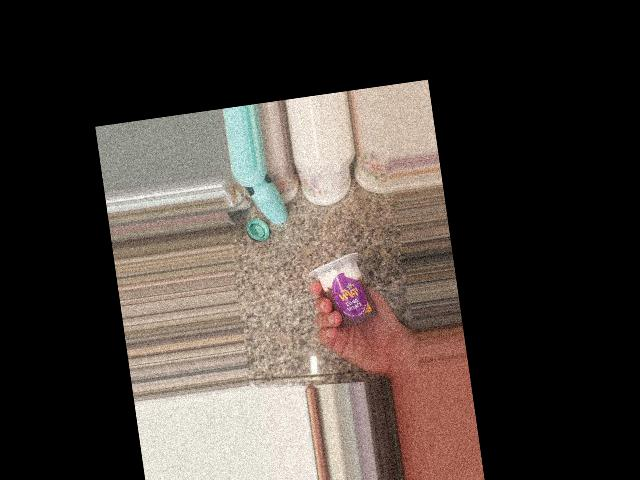milky: (223, 238, 311, 314)
